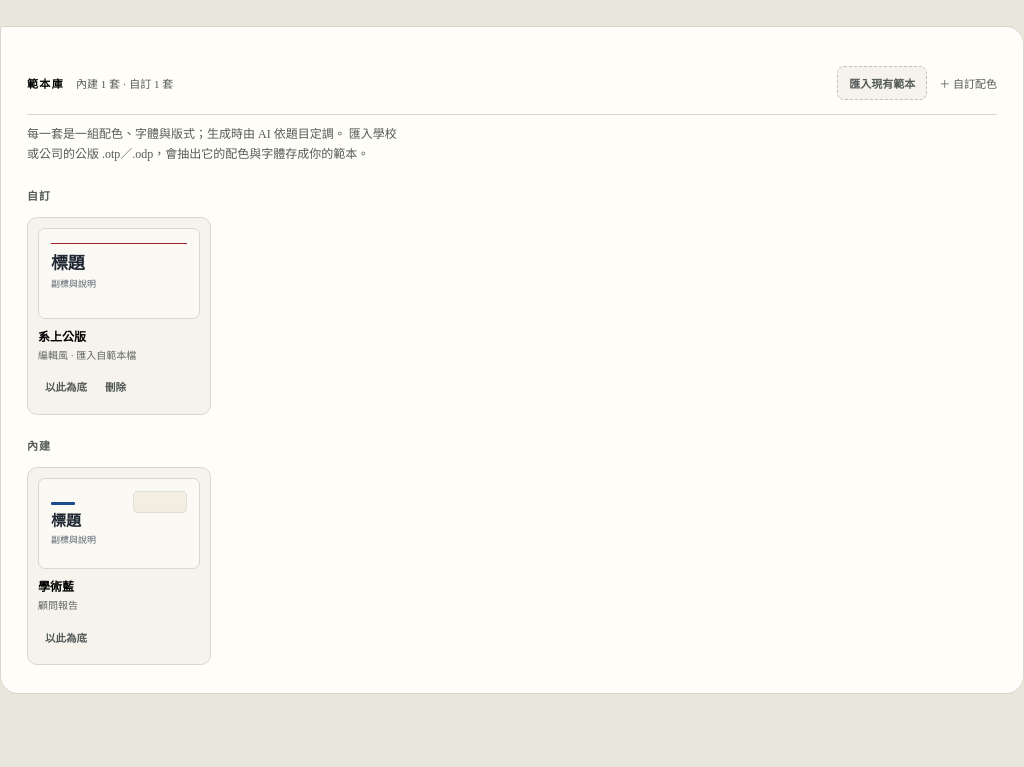
沒有名稱不能存
Expected: the text "學術藍" is shown, [38,580,74,594]
Click the button "＋ 自訂配色". click: (968, 83)
box: [939,68,997,98]
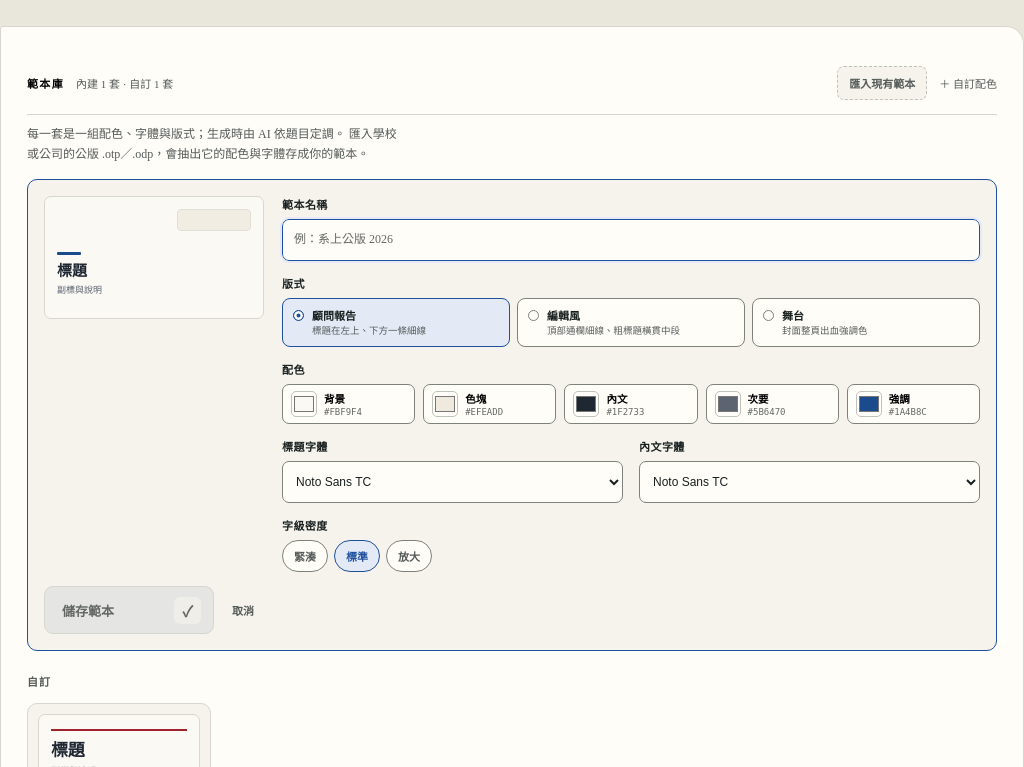
Expected: the button "儲存範本 ✓" is disabled, [44,586,214,634]
